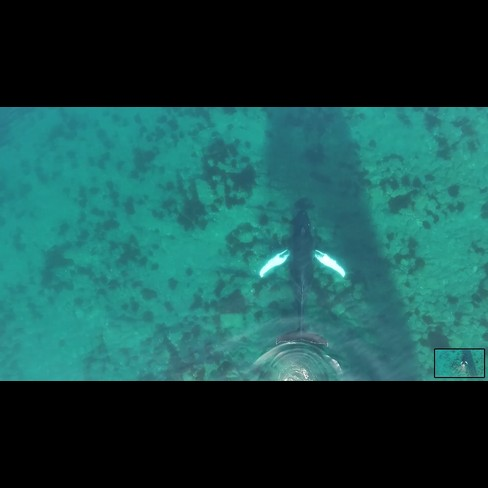hump: (251, 200, 348, 361)
